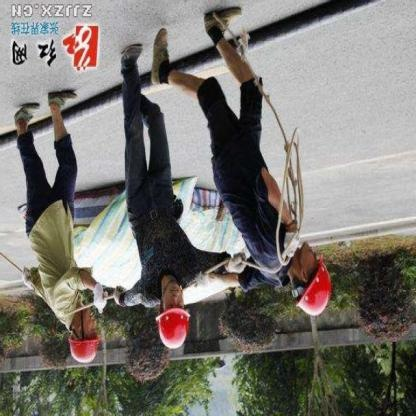red: (291, 253, 335, 316), (154, 306, 197, 349), (69, 331, 102, 363)
